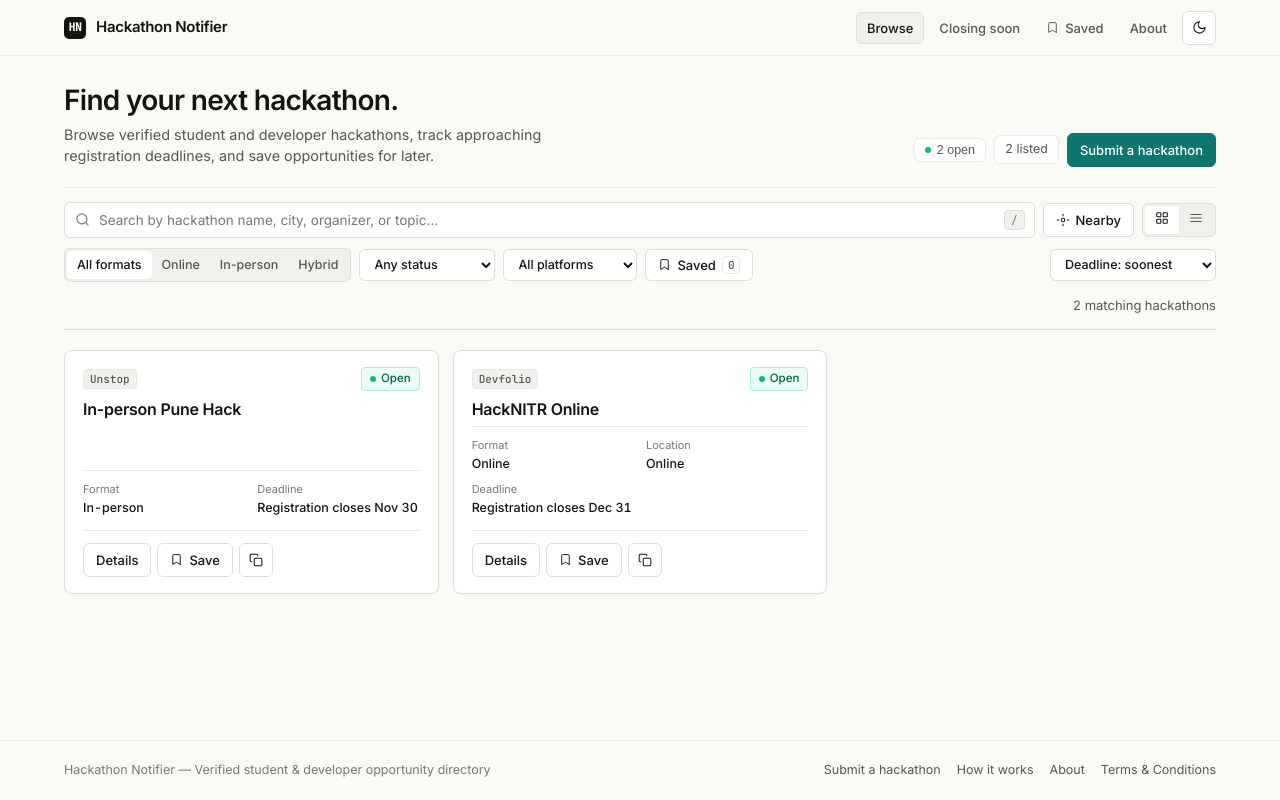
it: Student discovery experience in App › loads and renders hackathons with search and format filtering
Expected: the heading "HackNITR Online" is shown, [472,399,599,419]
Expected: the heading "In-person Pune Hack" is shown, [83,399,241,419]
// Search filtering
Type "Online" into the search field named "Search hackathons" at (549, 220), box [64,202,1034,238]
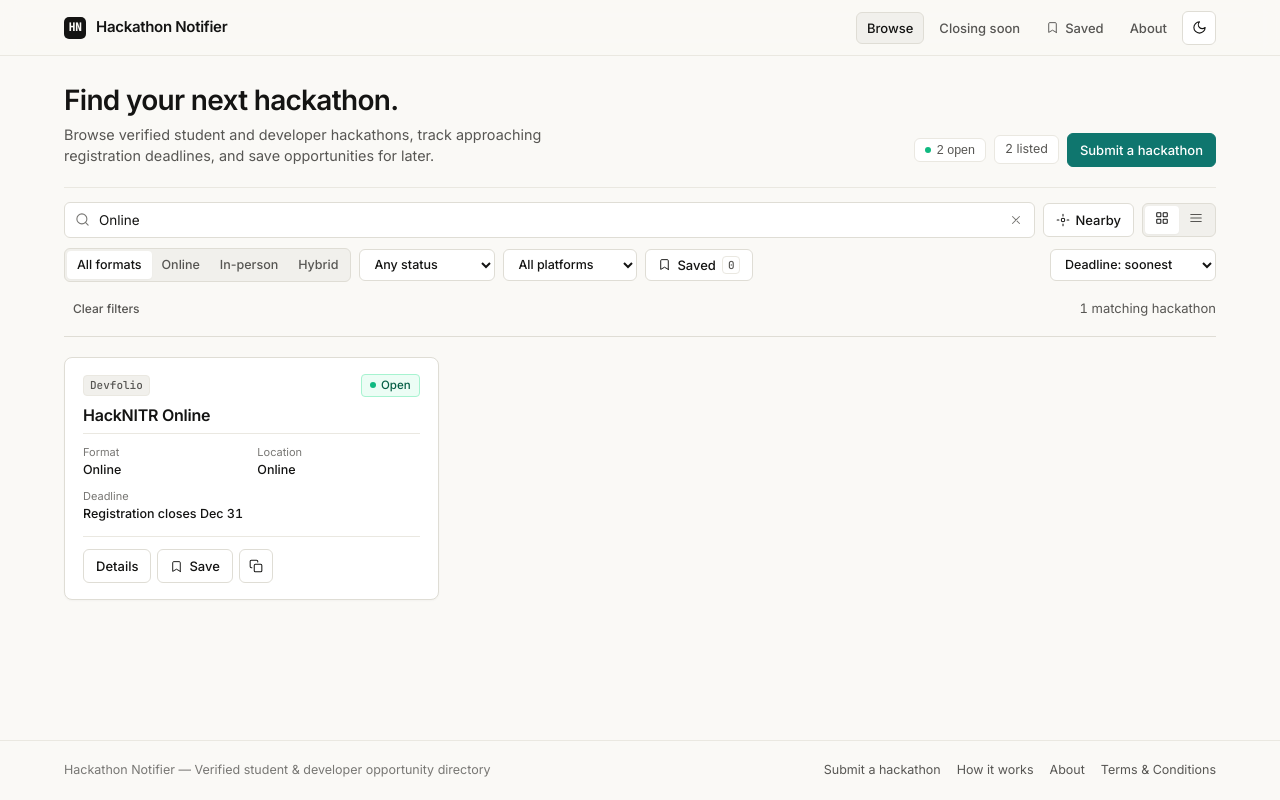
Expected: the heading "HackNITR Online" is shown, [83,405,210,425]
Expected: the heading "In-person Pune Hack" is gone
// Clear search
Clear the search field named "Search hackathons" at (549, 220), box [64,202,1034,238]
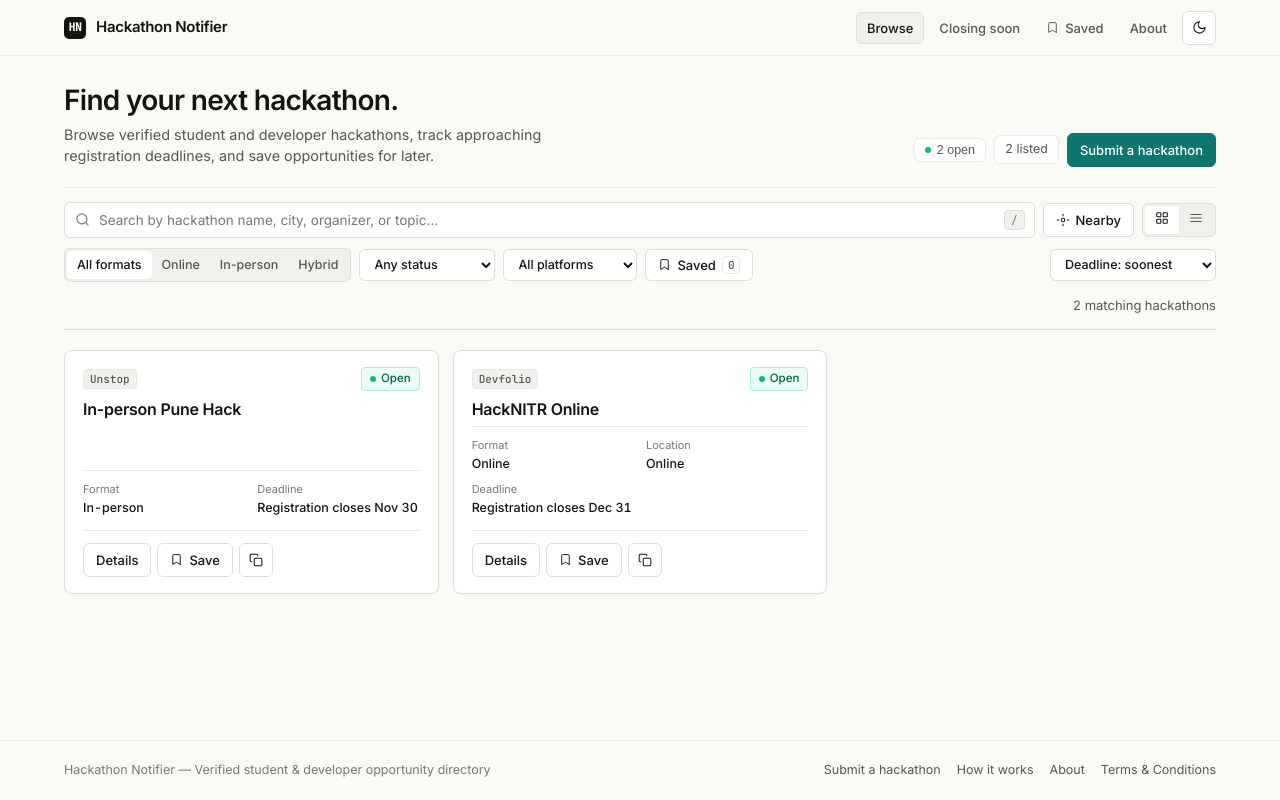
Expected: the heading "In-person Pune Hack" is shown, [83,399,241,419]
